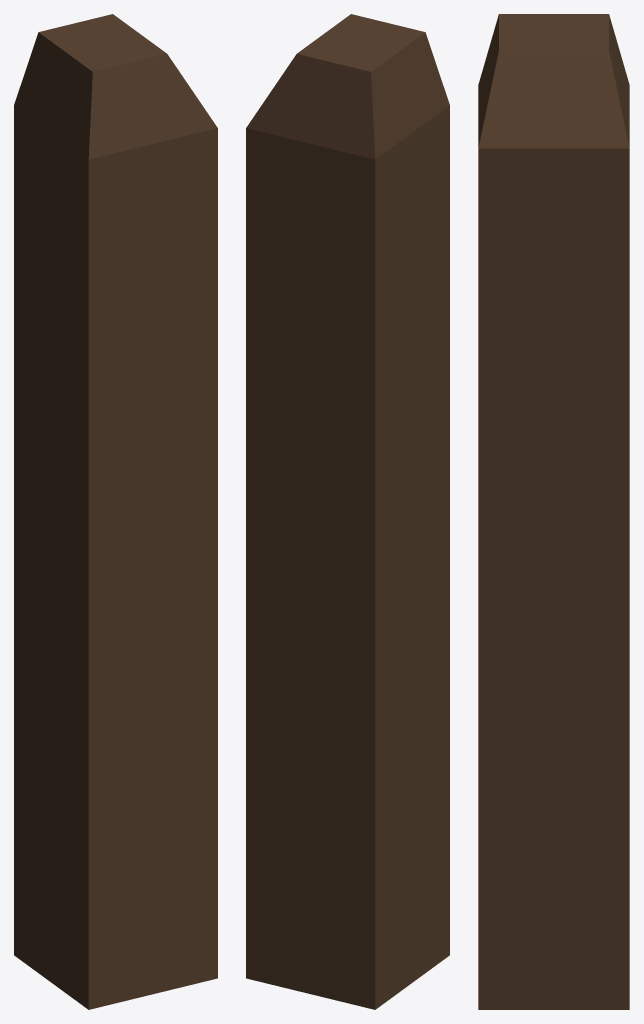
The model's file is fence_end.glb.
3 views of the same model, side by side, from view 1: azimuth 30°, elevation 25°; view 2: azimuth 150°, elevation 25°; view 3: azimuth 270°, elevation 25° (orthographic).
Visible parts, largest first — view 1: Fence end; view 2: Fence end; view 3: Fence end.
Boxes of the visible parts, x1,y1,x2,y2 form: Fence end: (14, 14, 217, 1009); Fence end: (246, 14, 449, 1009); Fence end: (478, 14, 629, 1009).
Bounding box in the file's own units: 0.118 × 0.809 × 0.118.
